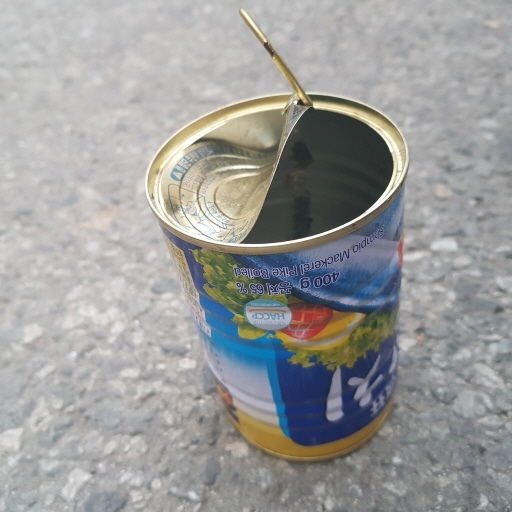Metal_1: (145, 9, 417, 464)
